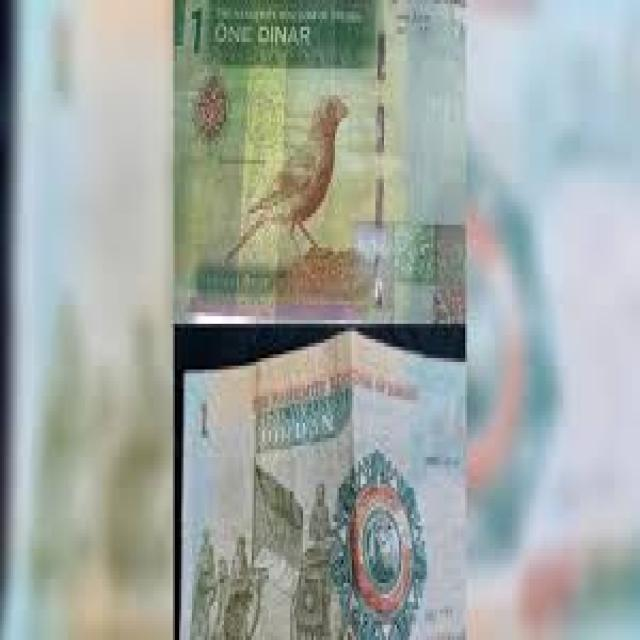1-dinar: (0, 0, 172, 640), (467, 0, 640, 636), (168, 0, 463, 324), (186, 331, 469, 640)
